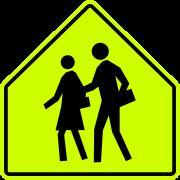School Ahead: (4, 13, 174, 174)
